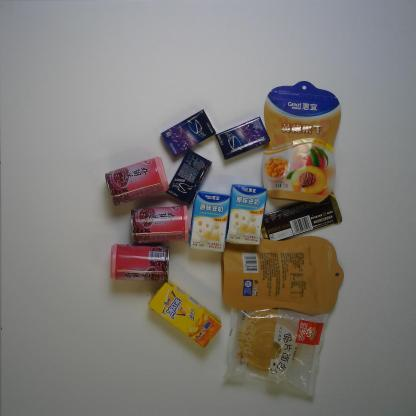Canned Food: (104, 156, 170, 207), (131, 204, 191, 244), (110, 243, 170, 281)
Chocolate: (261, 191, 343, 243)
Dessert: (223, 300, 331, 401)
Dried Fruit: (261, 80, 343, 204), (220, 234, 344, 316)
Drink: (148, 278, 222, 349)
Gum: (159, 108, 216, 157), (166, 149, 212, 204), (214, 116, 270, 160)
Milk: (188, 190, 232, 252), (226, 184, 267, 247)
